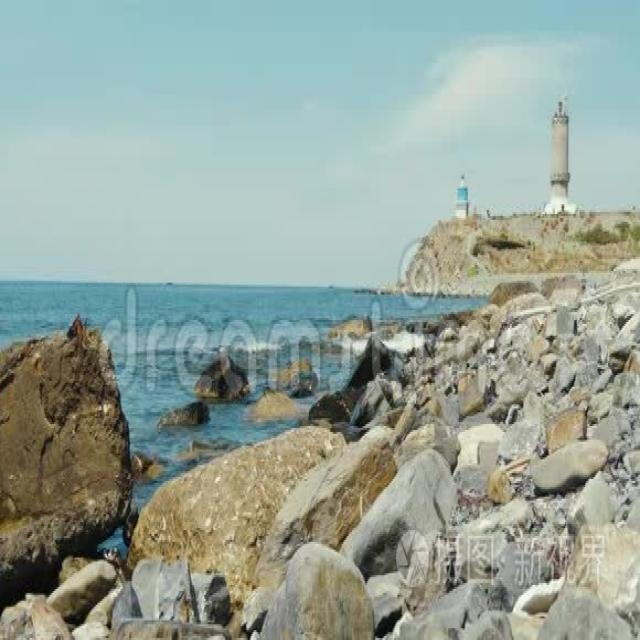island: (394, 89, 640, 298)
